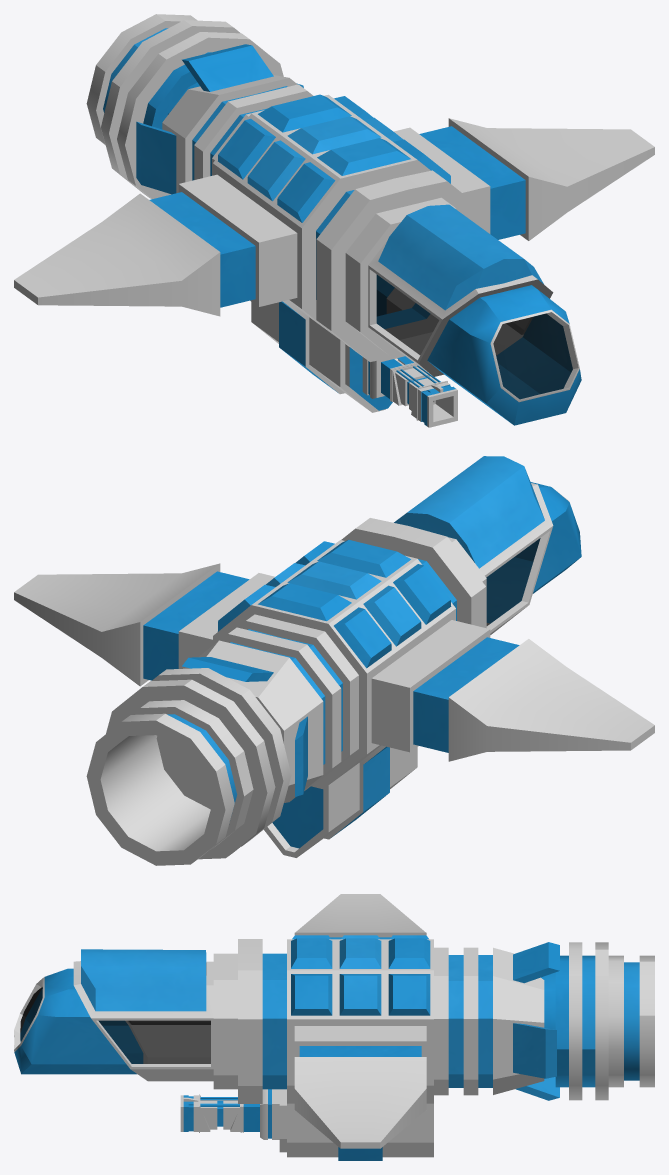
File: BAB.fbx
3 views of the same model, one above another, from view 1: azimuth 30°, elevation 25°; view 2: azimuth 150°, elevation 25°; view 3: azimuth 270°, elevation 25° (orthographic). The views are drawn at different scales.
Visible parts, largest first — view 1: BAB; view 2: BAB; view 3: BAB.
Boxes of the visible parts, <box> form: BAB: <box>14,14,654,427</box>; BAB: <box>14,456,654,865</box>; BAB: <box>14,894,654,1160</box>.
Size of the model in its own units: 8 by 3.15 by 8.73.
